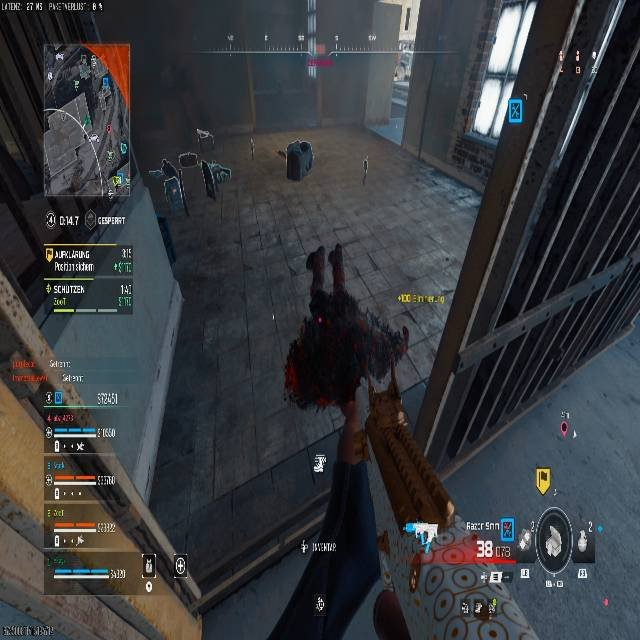player: (277, 242, 463, 638), (393, 59, 406, 79)
